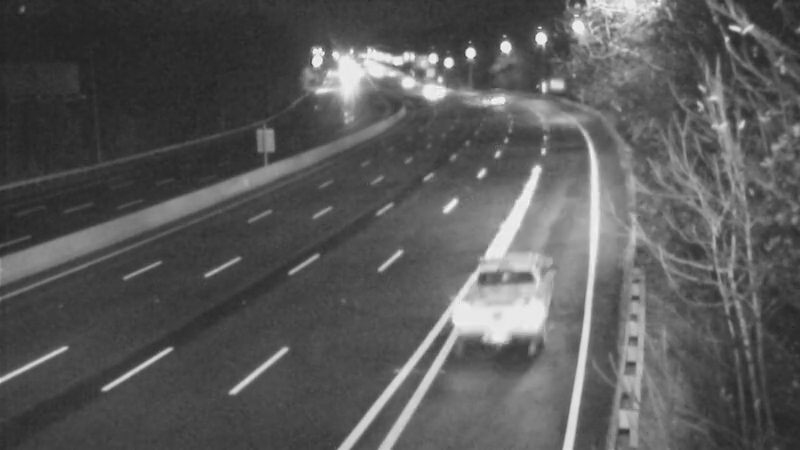vehicle: (473, 249, 553, 329), (381, 60, 431, 110), (409, 64, 459, 114), (472, 72, 522, 122)
